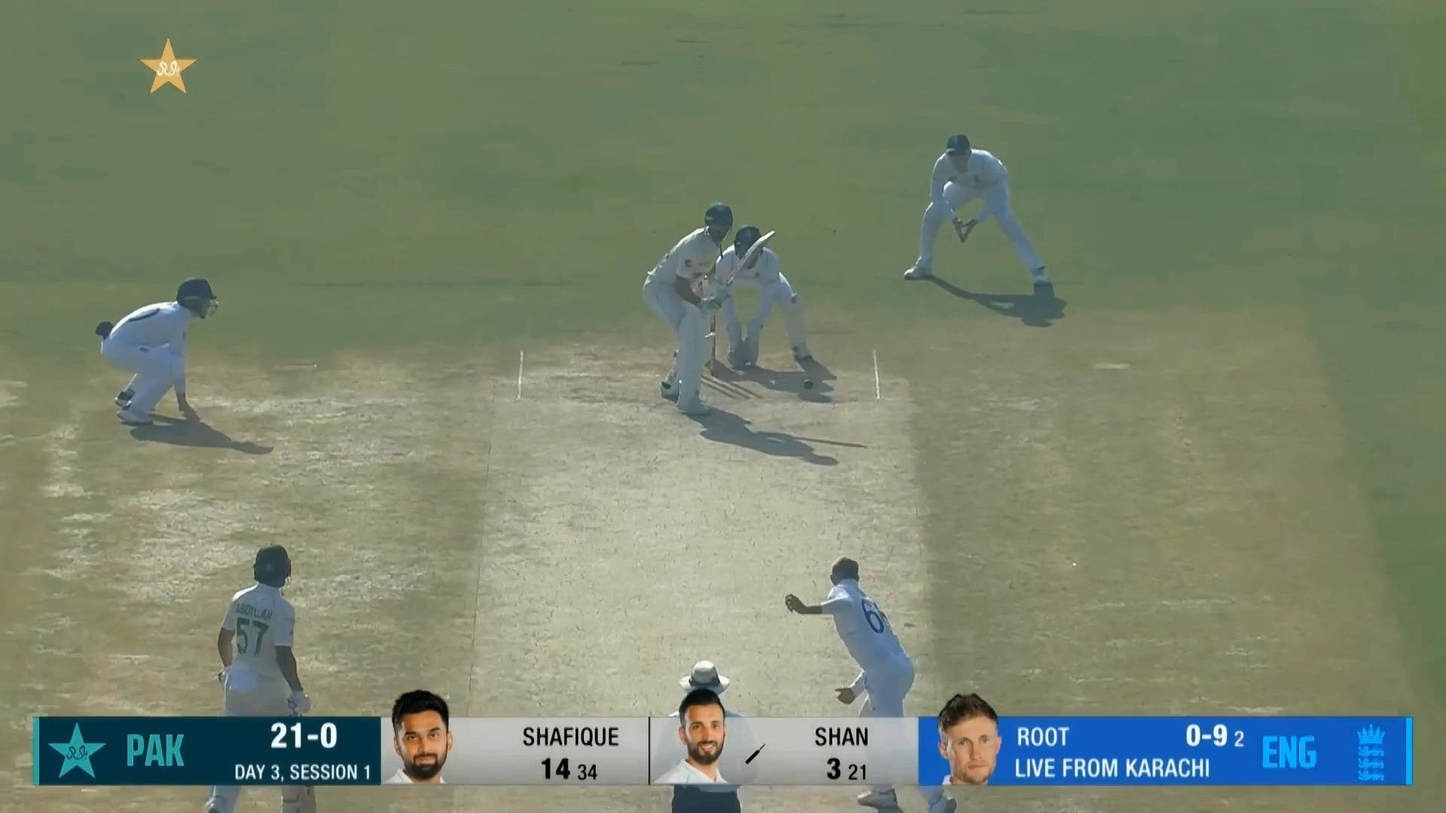BM 1: (641, 200, 778, 419)
BO: (785, 556, 916, 718)
